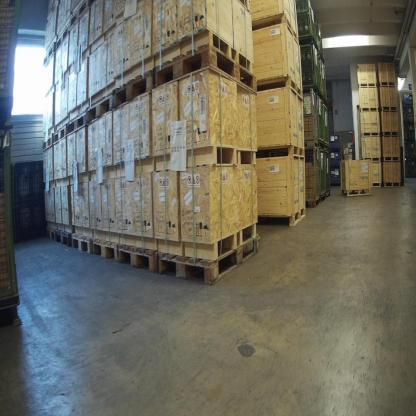pallets: (39, 26, 257, 149), (44, 219, 260, 286), (340, 187, 372, 197), (369, 180, 404, 189)
